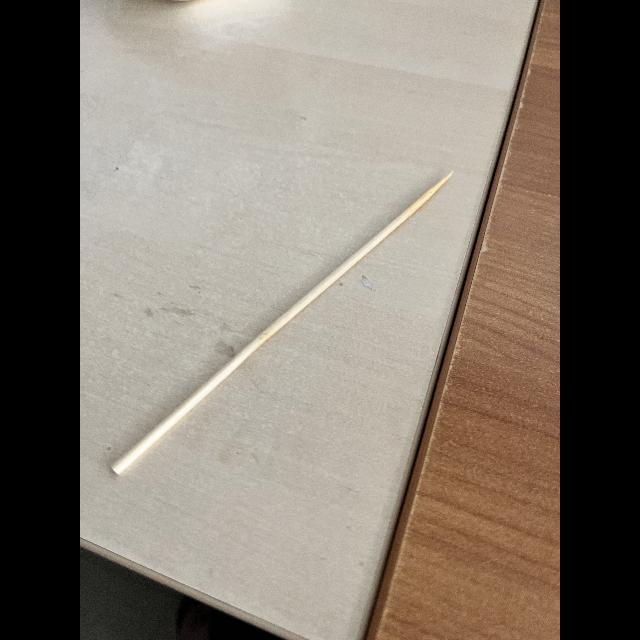stick: (102, 170, 454, 482)
